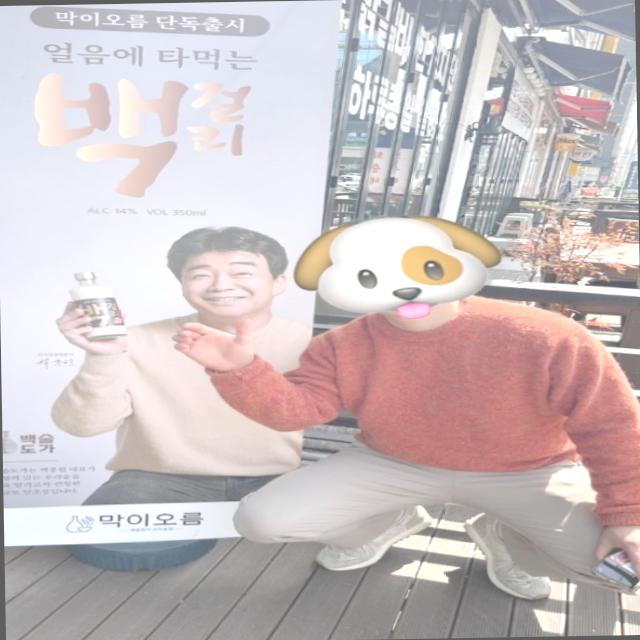slacks: (234, 438, 640, 595)
sweater: (196, 282, 640, 535)
